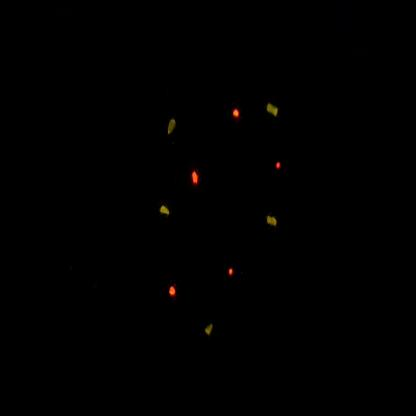PP: (260, 87, 287, 133), (154, 190, 178, 236), (259, 203, 285, 244), (160, 105, 185, 146), (198, 311, 219, 353)
PVC: (158, 268, 189, 320), (218, 250, 246, 297), (268, 145, 292, 186), (187, 160, 206, 199), (228, 99, 246, 134)
